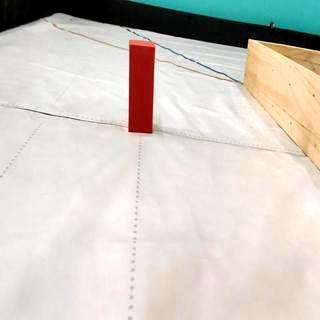redbox: (126, 38, 156, 134)
